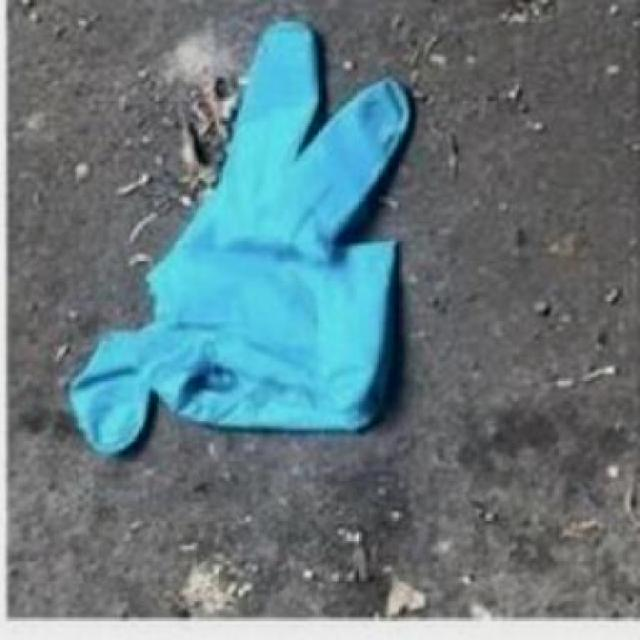glove: (66, 12, 417, 486)
